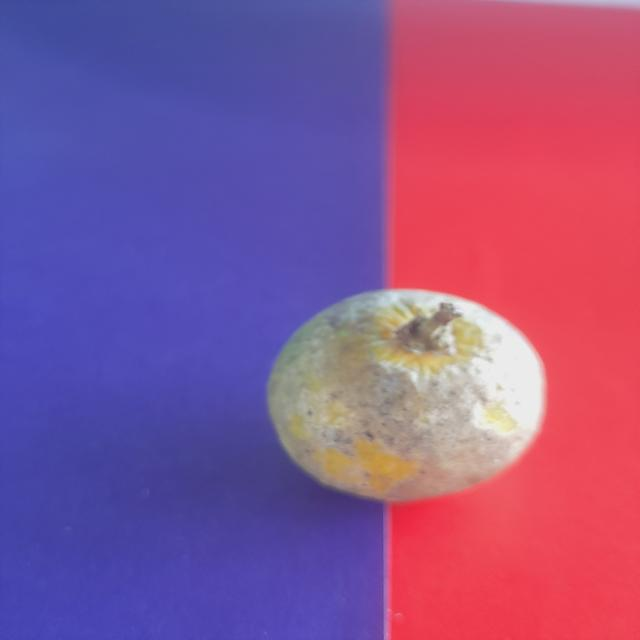thrips: (254, 286, 555, 514)
